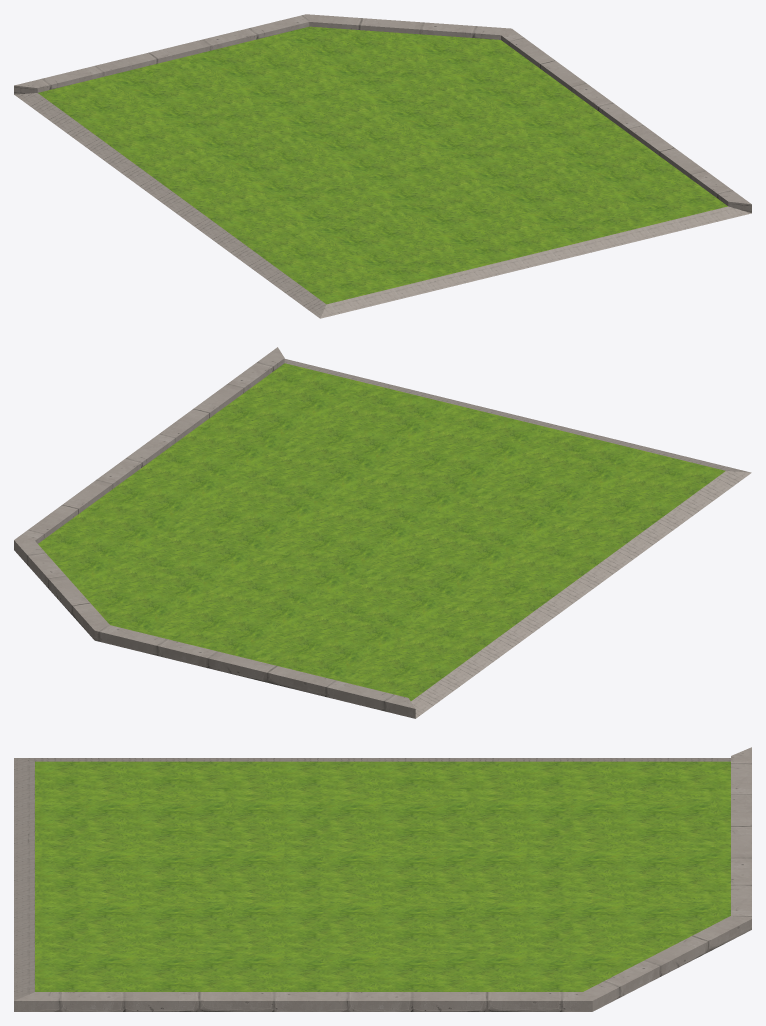
Rendered from GrassTile_H.fbx.
3 renders of one model, top to bottom at view 1: azimuth 30°, elevation 25°; view 2: azimuth 150°, elevation 25°; view 3: azimuth 270°, elevation 25°, orthographic. The views are drawn at different scales.
Visible parts, largest first — view 1: GrassTile_H; view 2: GrassTile_H; view 3: GrassTile_H.
Boxes of the visible parts, x1,y1,x2,y2 form: GrassTile_H: [14, 14, 751, 318]; GrassTile_H: [14, 347, 751, 718]; GrassTile_H: [14, 747, 751, 1011].
Size of the model in its own units: 1372 by 27.55 by 1685.
Materials: 2 (2 with a texture image).
